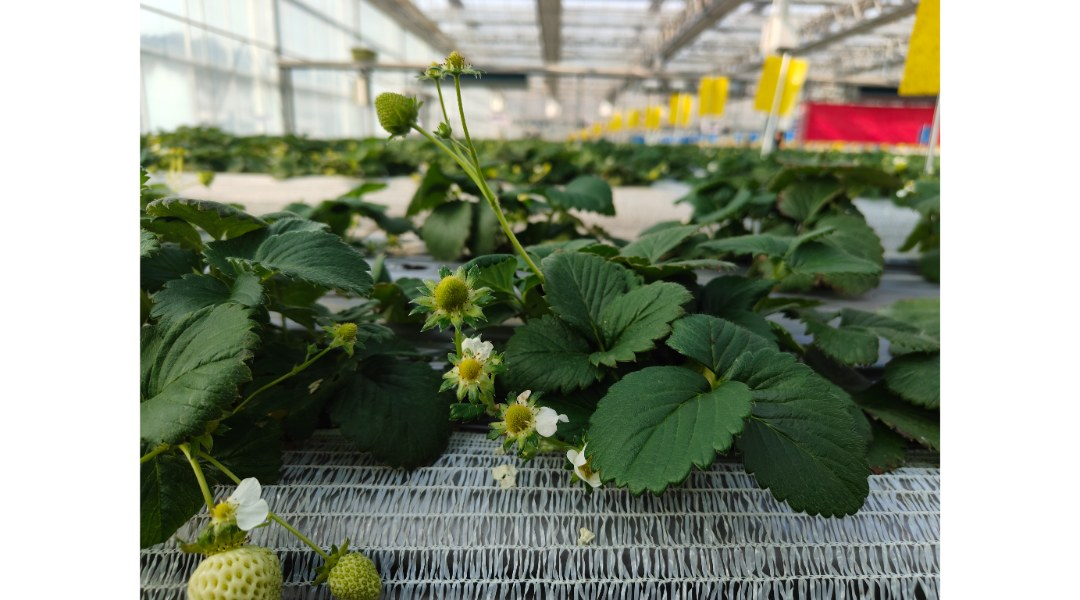berry: (408, 265, 499, 332), (179, 547, 293, 600), (320, 538, 393, 600), (359, 84, 424, 139), (322, 320, 369, 361), (496, 395, 533, 446), (453, 351, 487, 394), (440, 45, 469, 74), (421, 59, 443, 84)
flower: (186, 465, 279, 537), (507, 381, 567, 436)
strain: (452, 84, 493, 198), (495, 198, 544, 279), (413, 129, 475, 192), (439, 94, 453, 131)
